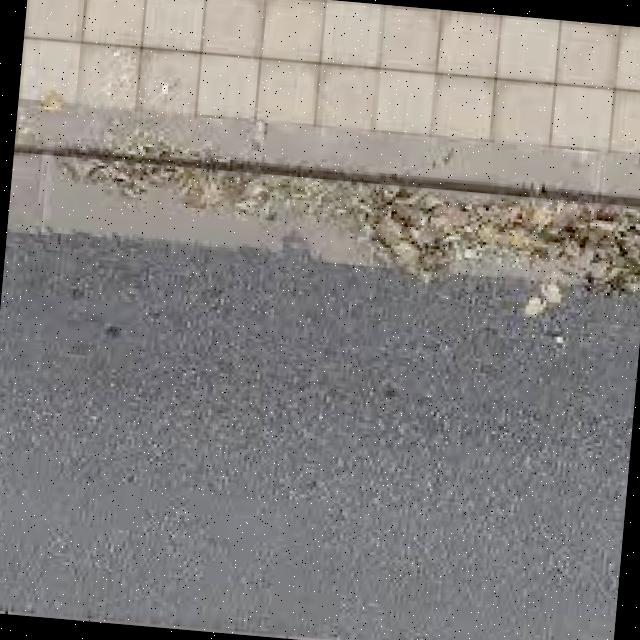curb: (13, 105, 640, 295)
